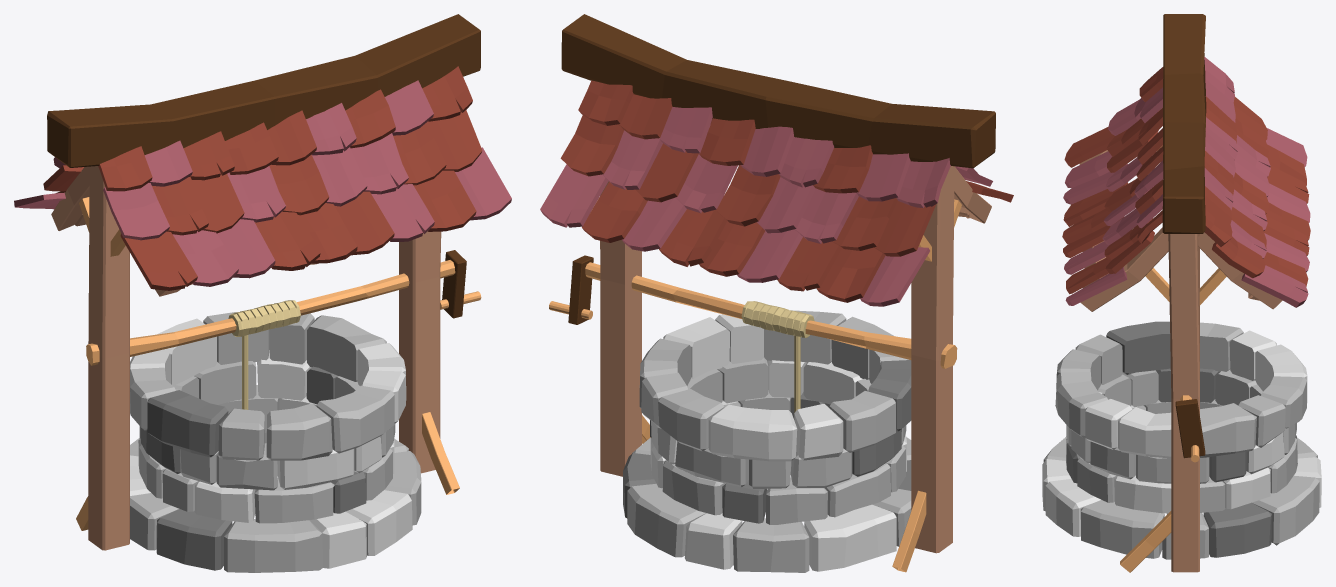
The model's file is Well.fbx.
The picture shows the model from 3 angles, left to right: view 1: azimuth 30°, elevation 25°; view 2: azimuth 150°, elevation 25°; view 3: azimuth 270°, elevation 25°; orthographic projection. The views are drawn at different scales.
Parts seen in each view (by area): view 1: Well; view 2: Well; view 3: Well.
Part boxes in pixels (box(x1,y1,x2,y2)): Well: box(14, 14, 511, 572); Well: box(540, 14, 1013, 572); Well: box(1042, 14, 1321, 572).
Bounding box in the file's own units: 2163 × 2147 × 1356.
